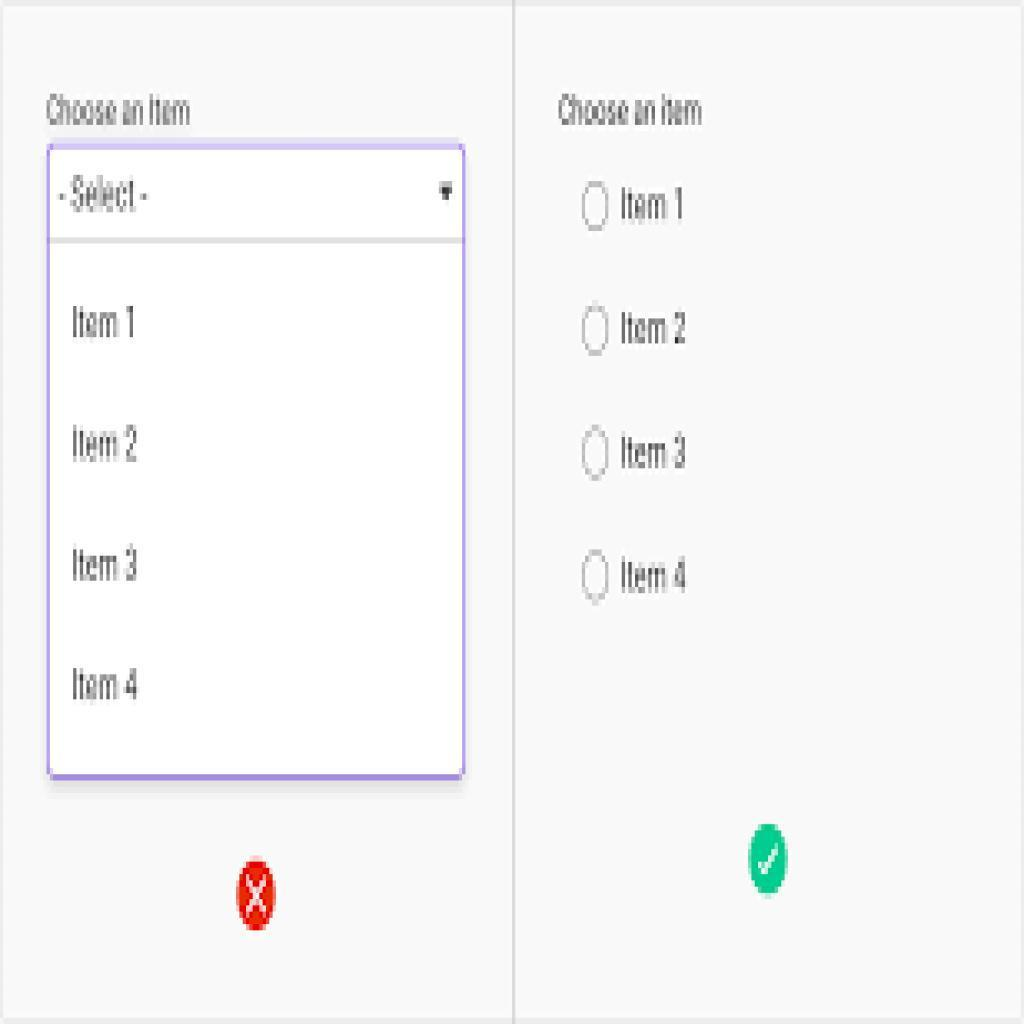dropdown: (48, 144, 465, 238)
label: (617, 551, 693, 598), (618, 307, 688, 350), (618, 184, 686, 226), (618, 431, 687, 472)
radio: (582, 544, 612, 608), (581, 425, 612, 482), (581, 181, 611, 236), (580, 302, 610, 356)
